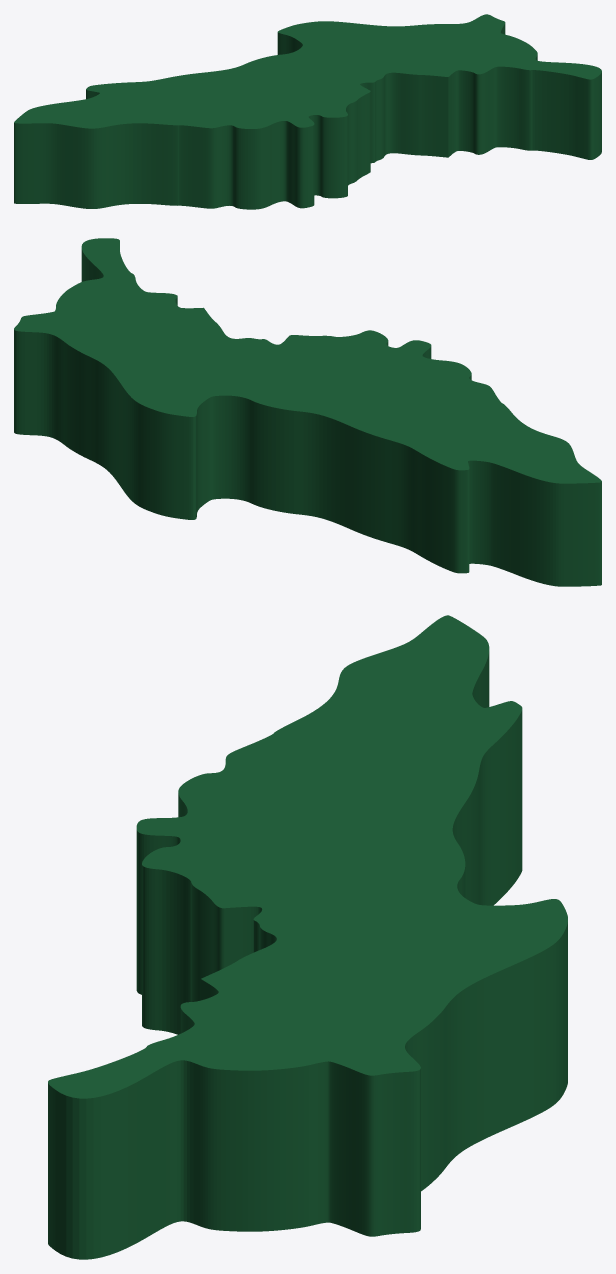
The picture shows the model from 3 angles, top to bottom: view 1: azimuth 30°, elevation 25°; view 2: azimuth 150°, elevation 25°; view 3: azimuth 270°, elevation 25°; orthographic projection. The views are drawn at different scales.
Visible parts, largest first — view 1: Curve.041_path4264; view 2: Curve.041_path4264; view 3: Curve.041_path4264.
Part boxes in pixels (x1,y1,x2,y2): Curve.041_path4264: (14,14,601,209); Curve.041_path4264: (14,238,601,586); Curve.041_path4264: (48,615,567,1259).
Bounding box in the file's own units: 0.6436 × 0.1 × 0.2928.
